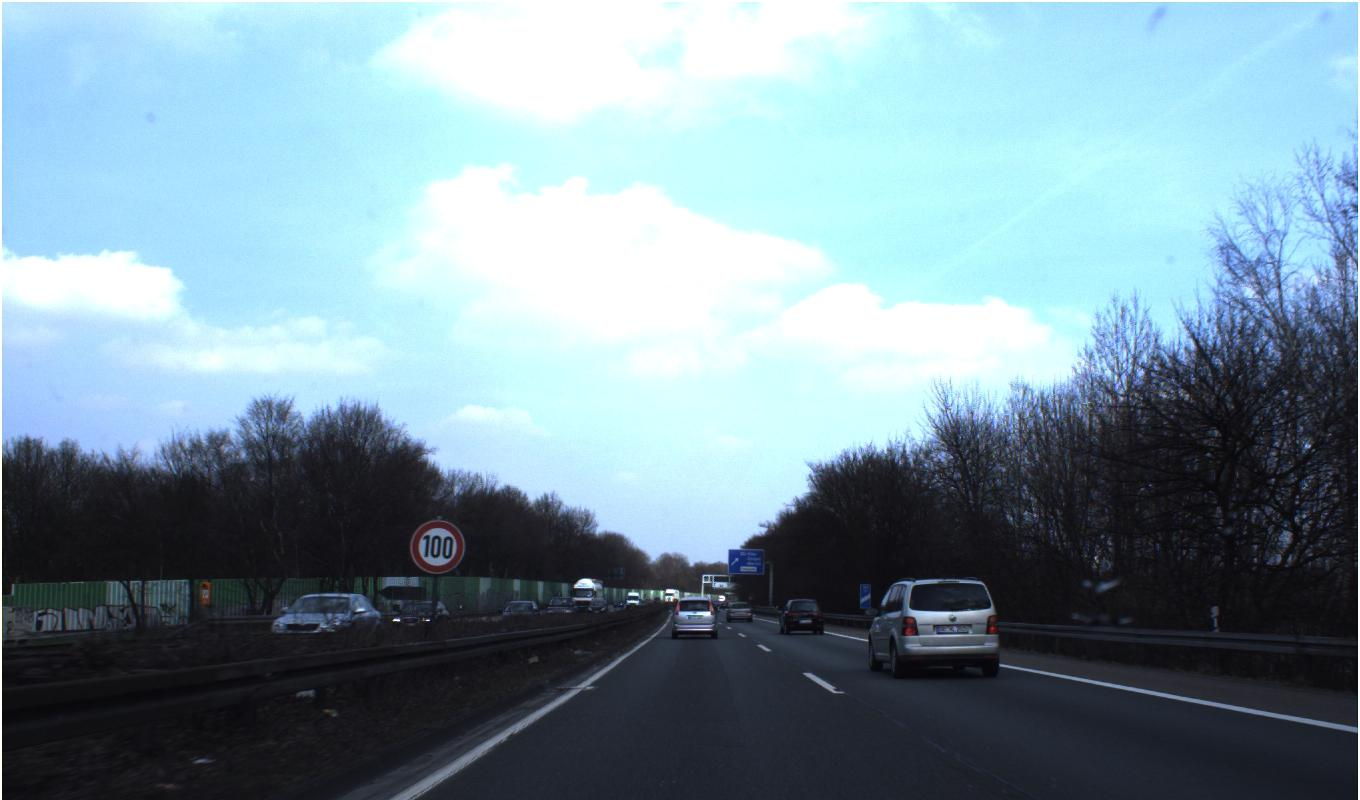prohibitory: (410, 519, 465, 574)
